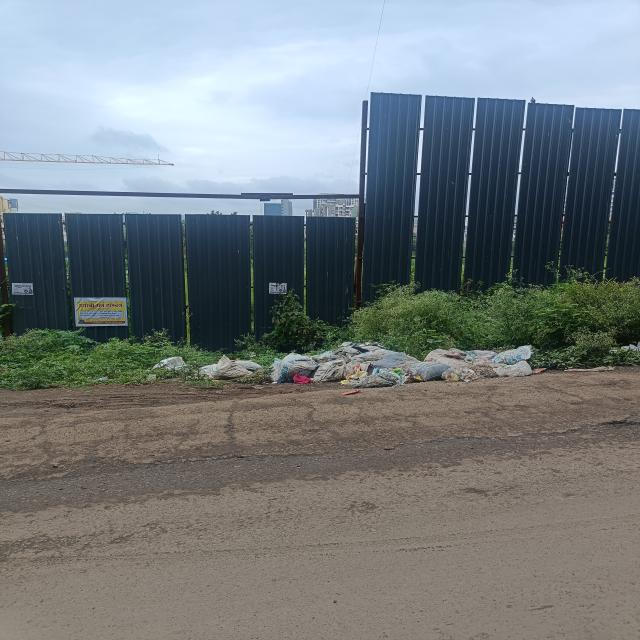garbage: (205, 346, 537, 381)
